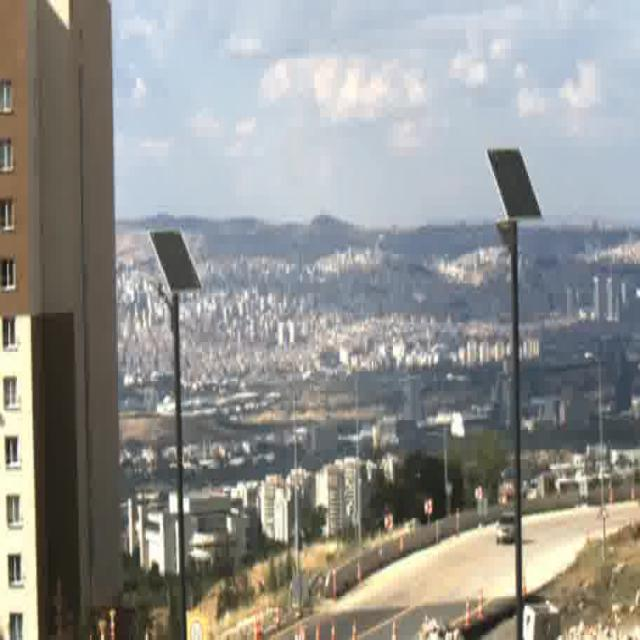Car: (496, 512, 519, 548)
